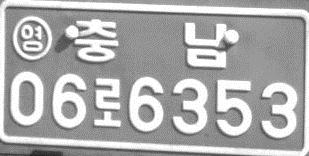0: (8, 70, 44, 128)
3: (259, 80, 297, 140), (171, 76, 207, 135)
5: (214, 79, 253, 138)
6: (50, 71, 86, 129), (127, 75, 163, 132)
로: (93, 77, 122, 128)
영: (11, 14, 52, 61)
충남_D: (73, 17, 228, 69)
